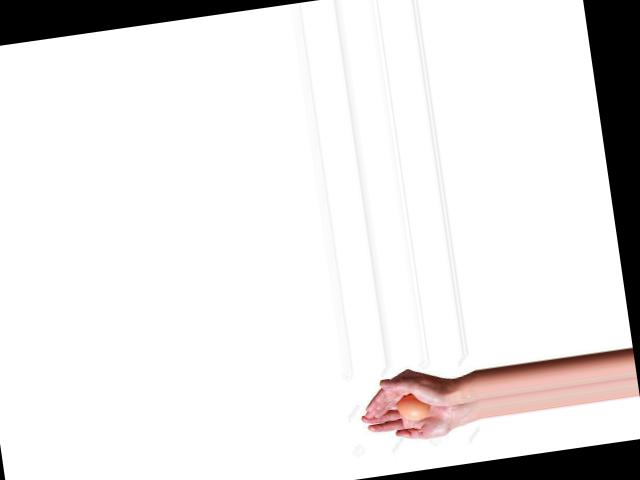egg: (396, 392, 429, 421)
